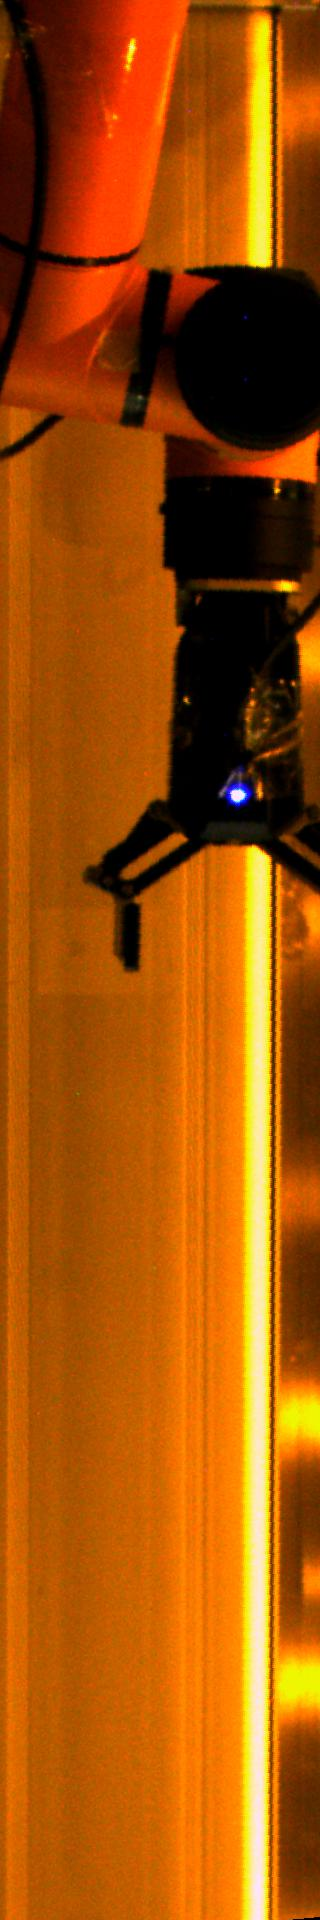keyPoint_1: (223, 780, 253, 811)
